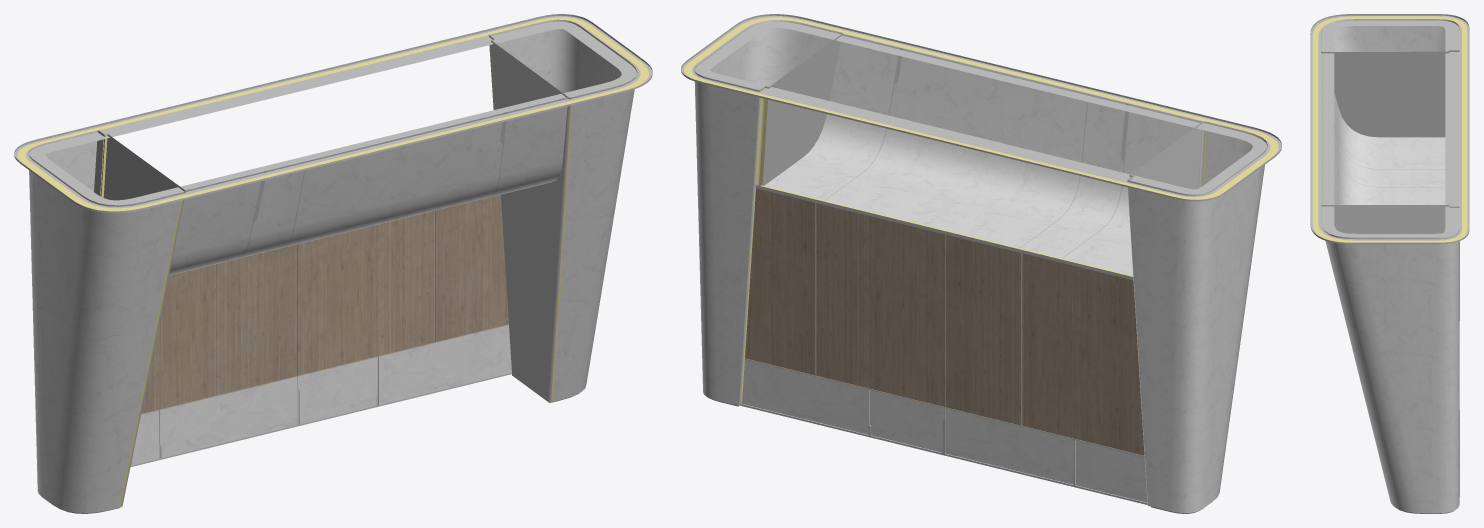
The picture shows the model from 3 angles, left to right: view 1: azimuth 30°, elevation 25°; view 2: azimuth 150°, elevation 25°; view 3: azimuth 270°, elevation 25°; orthographic projection. The views are drawn at different scales.
Visible parts, largest first — view 1: M_W_010_c_18x12; view 2: M_W_010_c_18x12; view 3: M_W_010_c_18x12.
Part boxes in pixels (x1,y1,x2,y2): M_W_010_c_18x12: [14, 14, 652, 513]; M_W_010_c_18x12: [681, 14, 1281, 513]; M_W_010_c_18x12: [1310, 14, 1469, 513].
Bounding box in the file's own units: 20.88 × 11.95 × 6.13.
